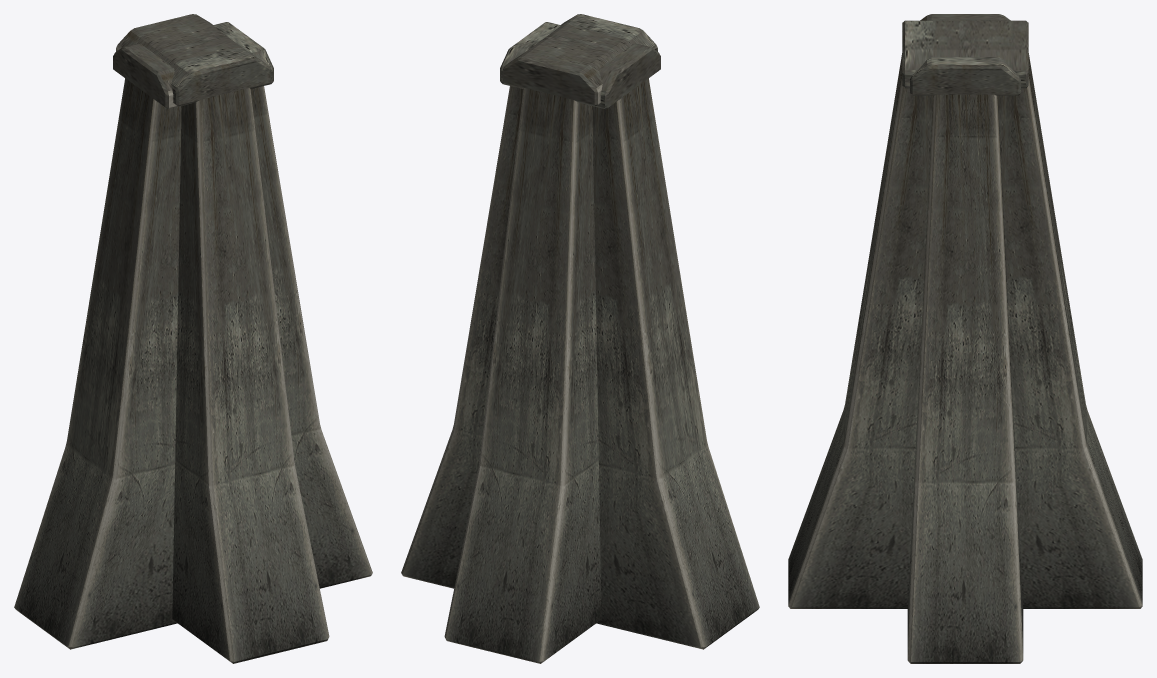
Rendered from dot.fbx.
3 renders of one model, left to right at view 1: azimuth 30°, elevation 25°; view 2: azimuth 150°, elevation 25°; view 3: azimuth 270°, elevation 25°, orthographic.
Visible parts, largest first — view 1: Cube, Cube_4, Cube_1_4, Cube_1; view 2: Cube, Cube_4, Cube_1_4, Cube_1; view 3: Cube_4, Cube, Cube_1_4, Cube_1.
Part boxes in pixels (x1,y1,x2,y2): Cube: (14, 78, 372, 649); Cube_4: (172, 88, 329, 663); Cube_1_4: (116, 14, 270, 106); Cube_1: (113, 22, 273, 109); Cube: (401, 78, 759, 649); Cube_4: (444, 88, 601, 663); Cube_1_4: (503, 14, 657, 106); Cube_1: (500, 22, 660, 109); Cube_4: (788, 53, 1142, 608); Cube: (907, 94, 1023, 663); Cube_1_4: (902, 20, 1028, 88); Cube_1: (910, 14, 1020, 95).
Size of the model in its own units: 133 by 229 by 133.
Materials: 1 (1 with a texture image).
